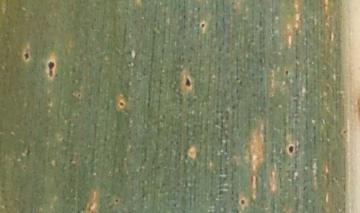tarspot: (45, 59, 57, 79), (21, 49, 33, 63), (285, 142, 297, 156), (183, 76, 194, 90), (116, 98, 128, 108), (281, 67, 292, 77), (339, 125, 348, 137), (239, 196, 247, 209), (111, 196, 122, 204), (199, 21, 208, 29)
